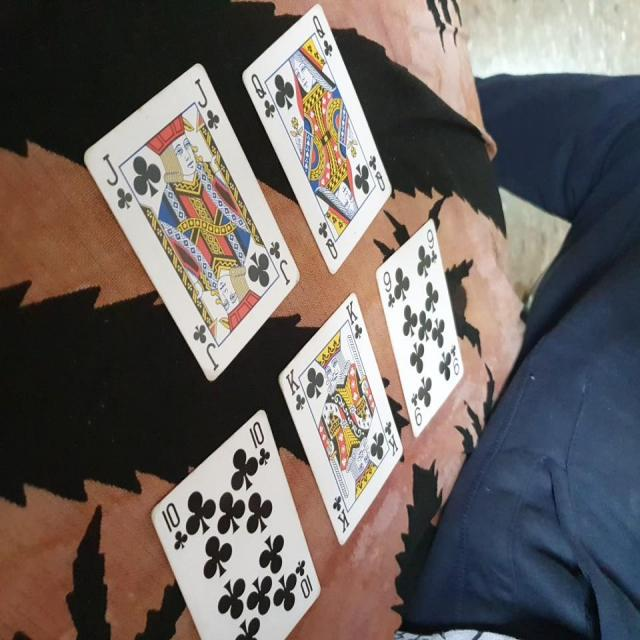10 Trefoils: (147, 403, 322, 640)
9 Trefoils: (373, 215, 464, 440)
J Trefoils: (84, 61, 301, 384)
K Trefoils: (278, 292, 405, 546)
Q Trefoils: (236, 4, 393, 273)
